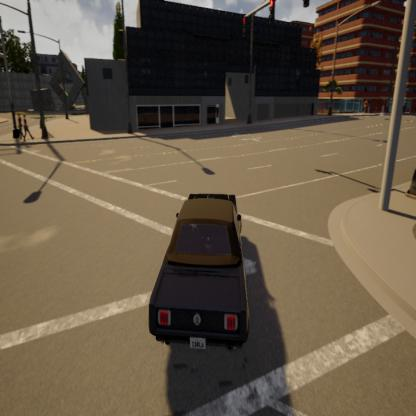Cars: (146, 172, 260, 354)
Pedestrian: (22, 110, 31, 139), (14, 112, 23, 136)
